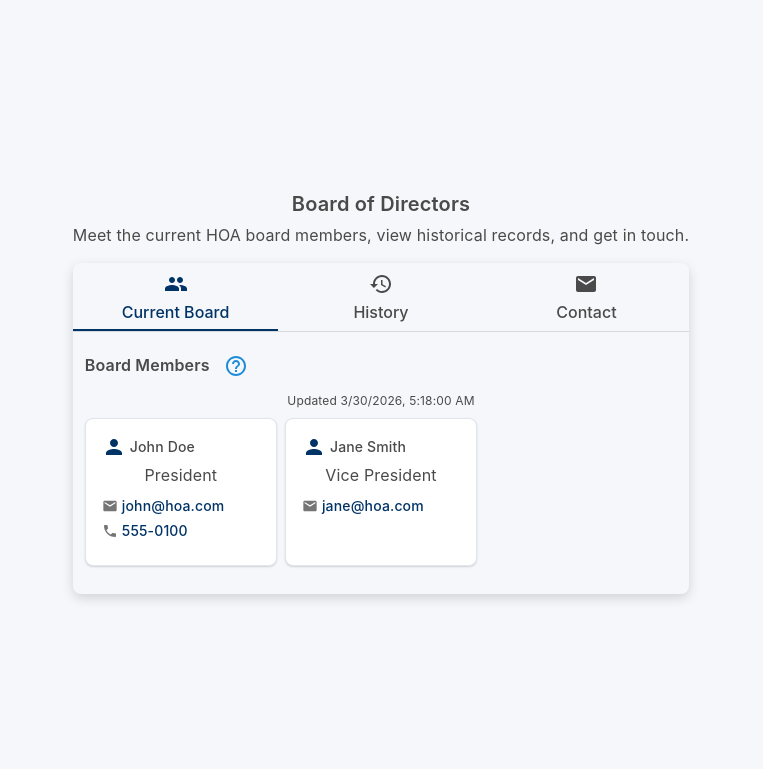
Test case: BoardPage Accessibility Tests › Contact Form Accessibility › should have accessible form when contact tab is active
This screenshot has width=763, height=769.
// Click on contact tab
Click the tab "Contact": (586, 297) top-left (484, 263), bottom-right (689, 331)
(page scrolled)
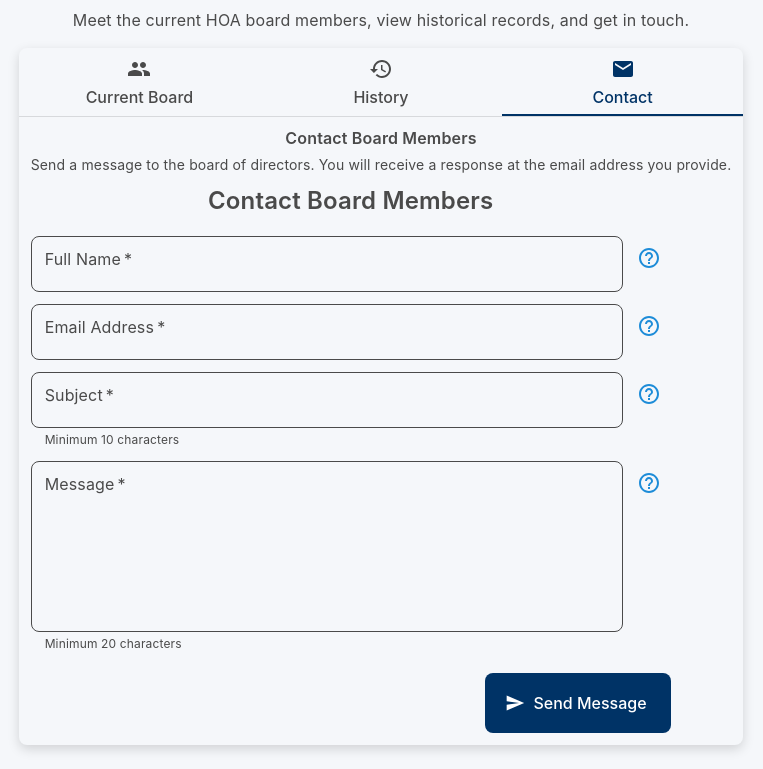
Expected: the form is shown, top-left (31, 187), bottom-right (671, 733)
